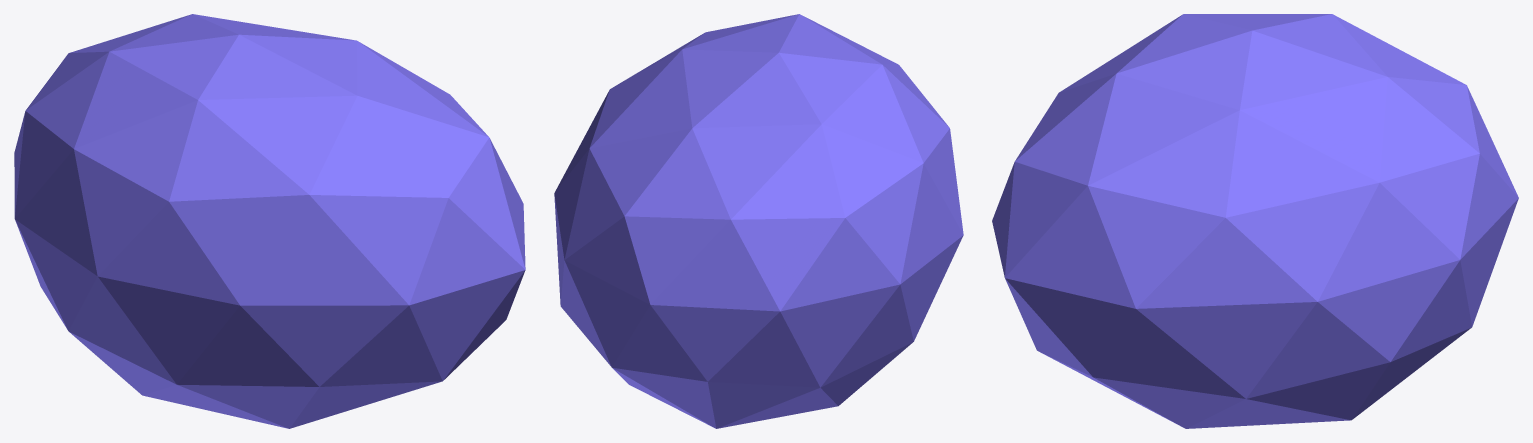
The model's file is safa.fbx.
3 renders of one model, left to right at view 1: azimuth 30°, elevation 25°; view 2: azimuth 150°, elevation 25°; view 3: azimuth 270°, elevation 25°, orthographic. The views are drawn at different scales.
Parts seen in each view (by area): view 1: Cube; view 2: Cube; view 3: Cube.
Boxes of the visible parts, x1=… form: Cube: x1=14, y1=14, x2=525, y2=428; Cube: x1=554, y1=14, x2=963, y2=428; Cube: x1=992, y1=14, x2=1518, y2=428.
Bounding box in the file's own units: 196 × 179 × 230.
